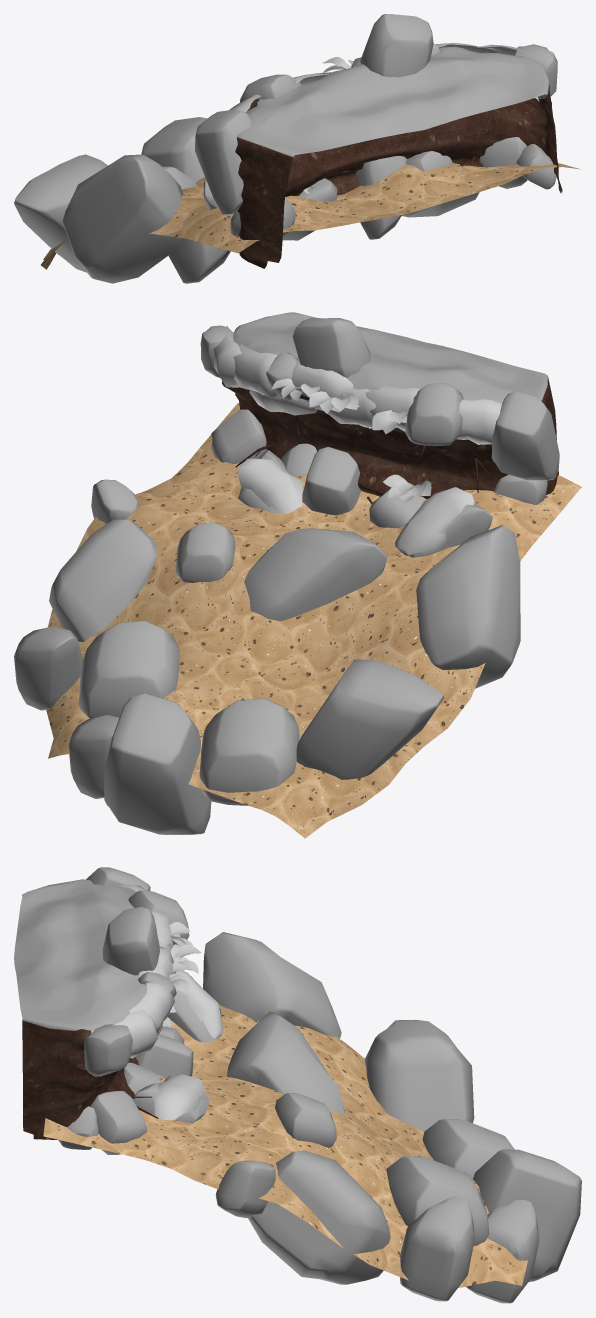
Rendered from Sand1.fbx.
3 views of the same model, one above another, from view 1: azimuth 30°, elevation 25°; view 2: azimuth 150°, elevation 25°; view 3: azimuth 270°, elevation 25° (orthographic).
Visible parts, largest first — view 1: polySurface4830; view 2: polySurface4830; view 3: polySurface4830.
Part boxes in pixels (<box>): polySurface4830: <box>14,14,580,283</box>; polySurface4830: <box>14,312,581,838</box>; polySurface4830: <box>14,867,581,1303</box>.
Bounding box in the file's own units: 688 × 577 × 765.
